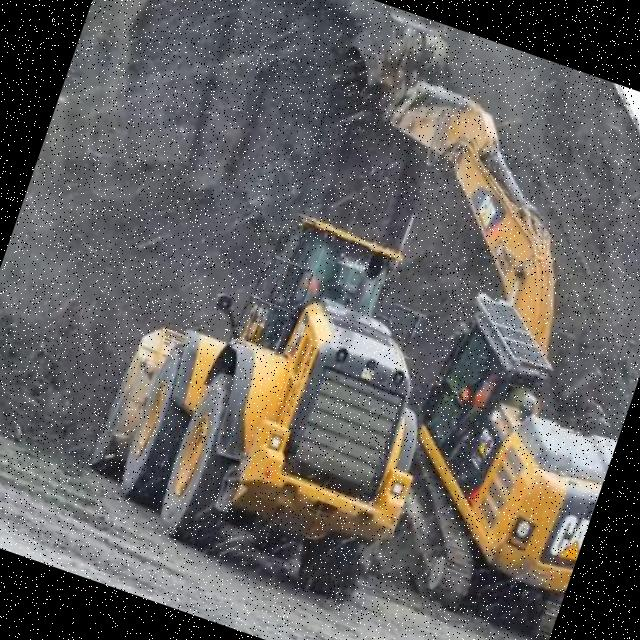Excavator: (179, 0, 640, 640)
Loader: (73, 166, 483, 603)
